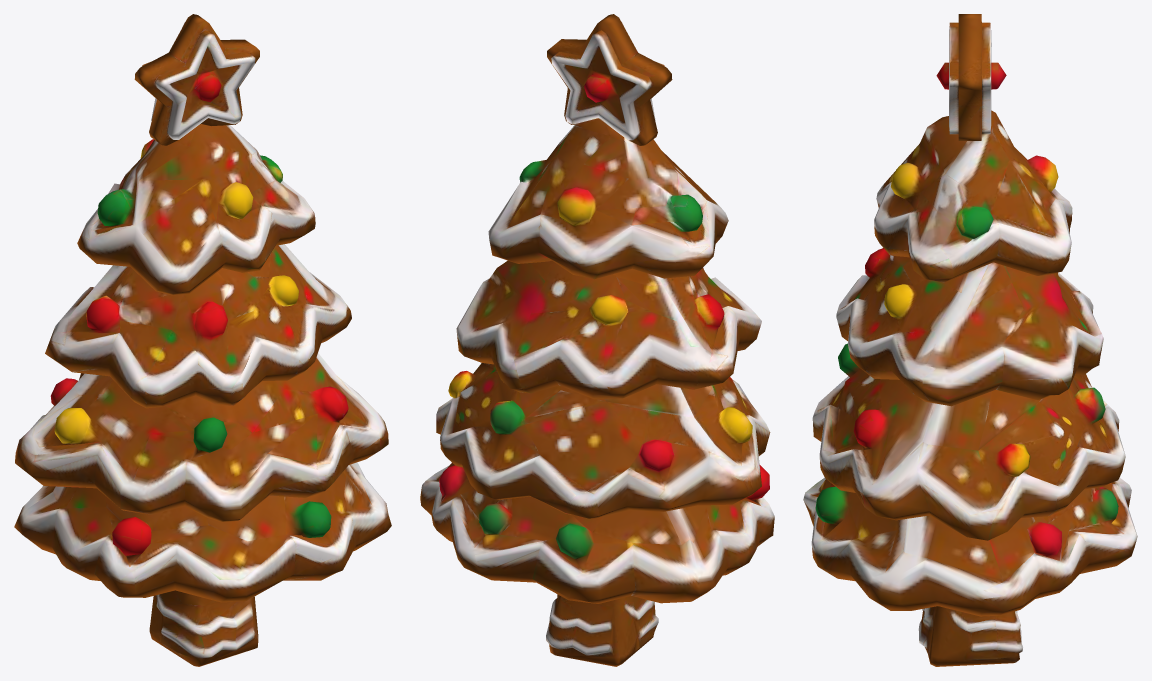
The model's file is tree.glb.
3 views of the same model, side by side, from view 1: azimuth 30°, elevation 25°; view 2: azimuth 150°, elevation 25°; view 3: azimuth 270°, elevation 25° (orthographic).
Bounding box in the file's own units: 0.5268 × 0.9507 × 0.4536.
1 material, 1 textured.
